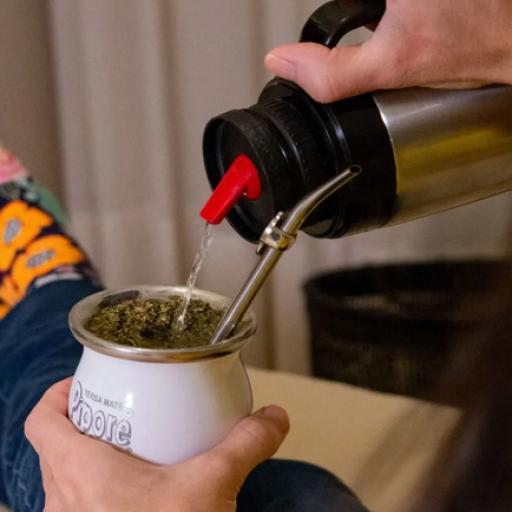mate: (69, 167, 360, 464)
termo: (203, 77, 511, 243)
